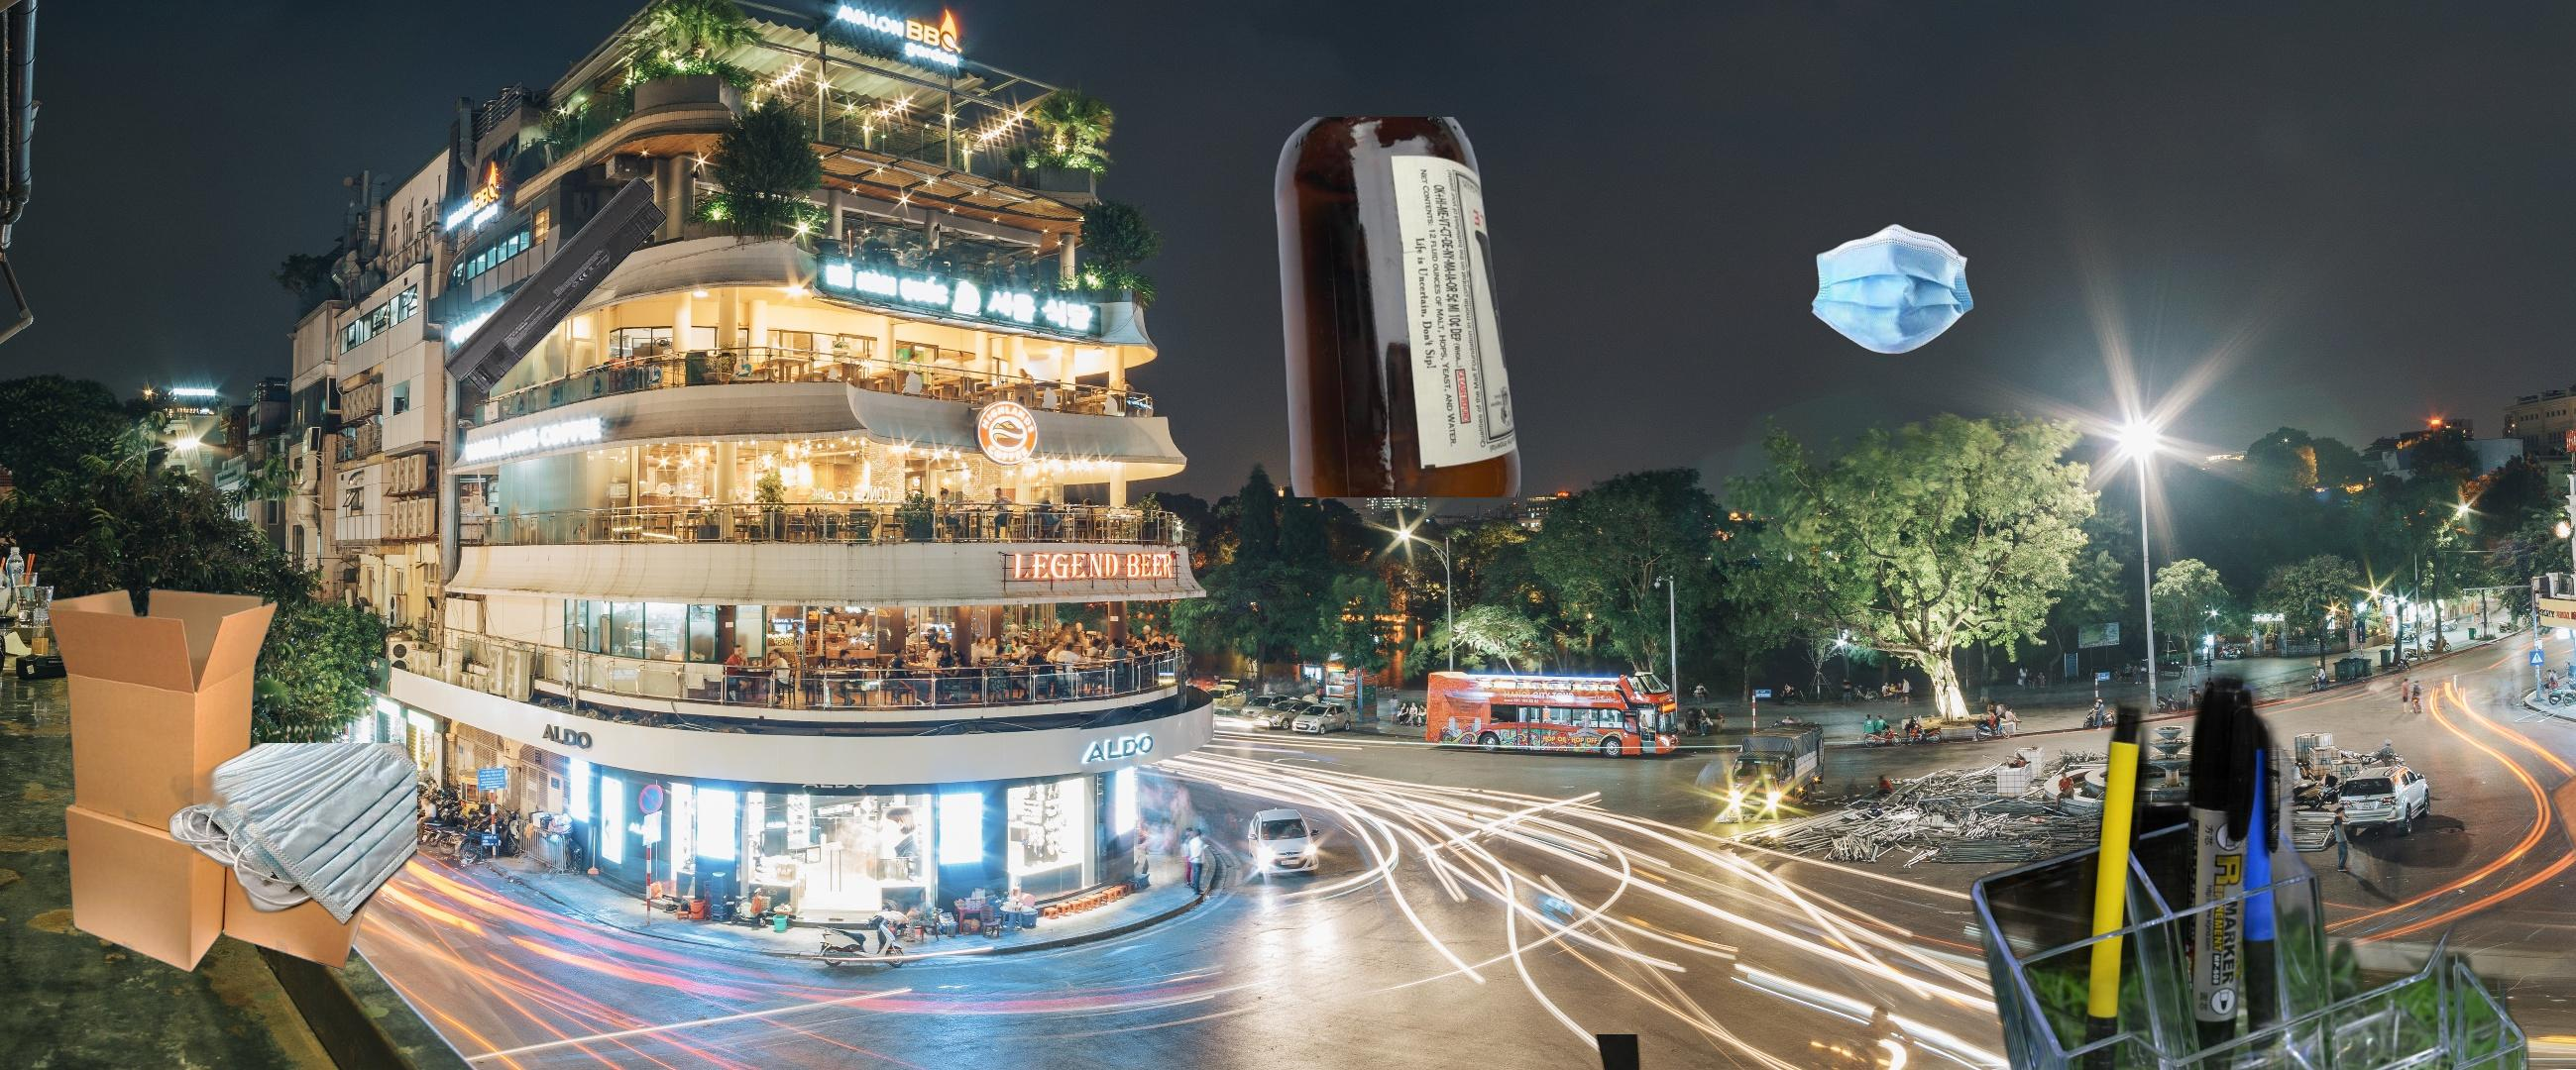battery: (443, 174, 668, 394)
glass: (1270, 117, 1526, 497)
penholder: (1879, 616, 2539, 1070)
trash: (161, 743, 417, 930), (1809, 221, 1976, 357)
trashbox-cardboard: (43, 586, 392, 977), (2543, 310, 2576, 1070), (1592, 1034, 1646, 1070)
